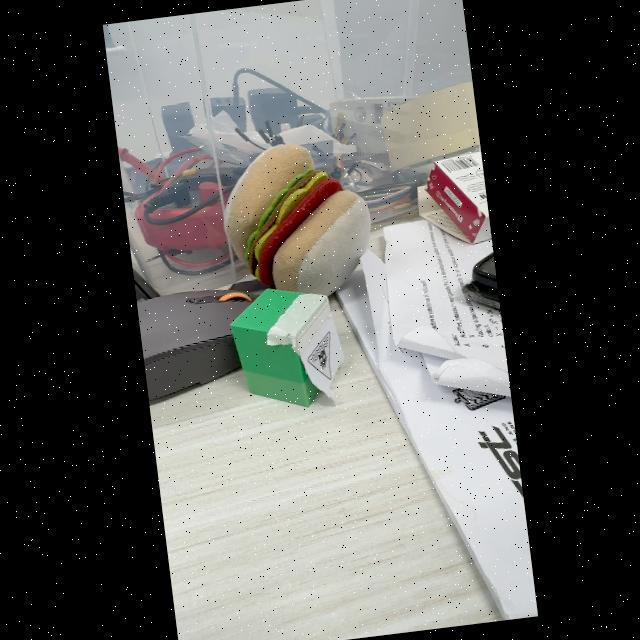Tsunami: (307, 331, 331, 379)
